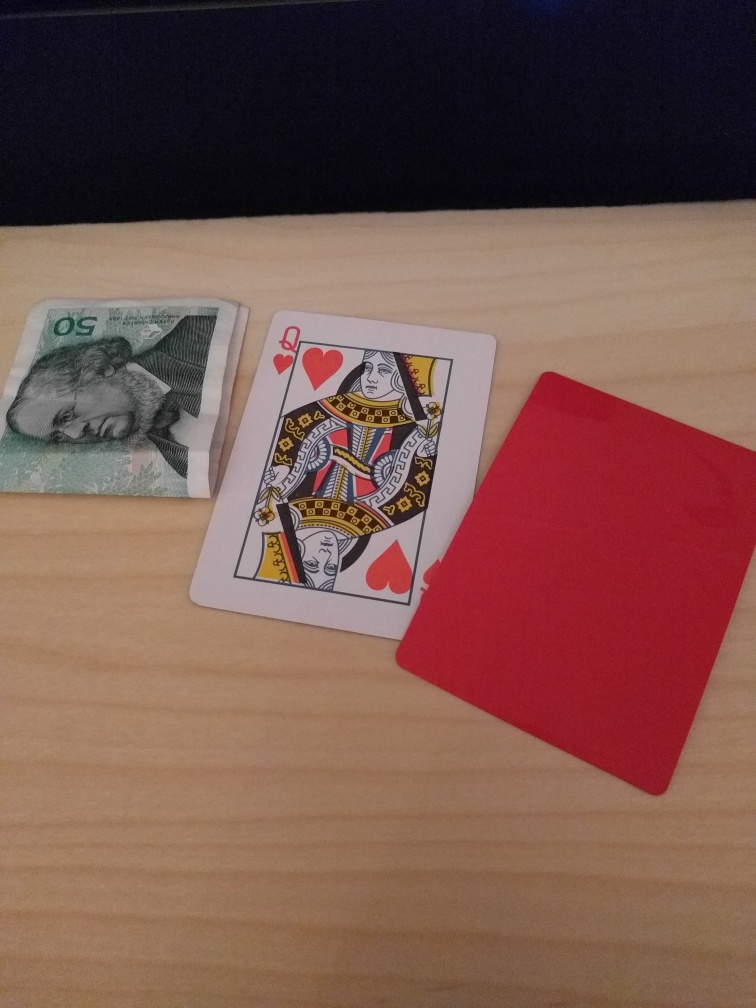queen: (188, 310, 497, 642)
